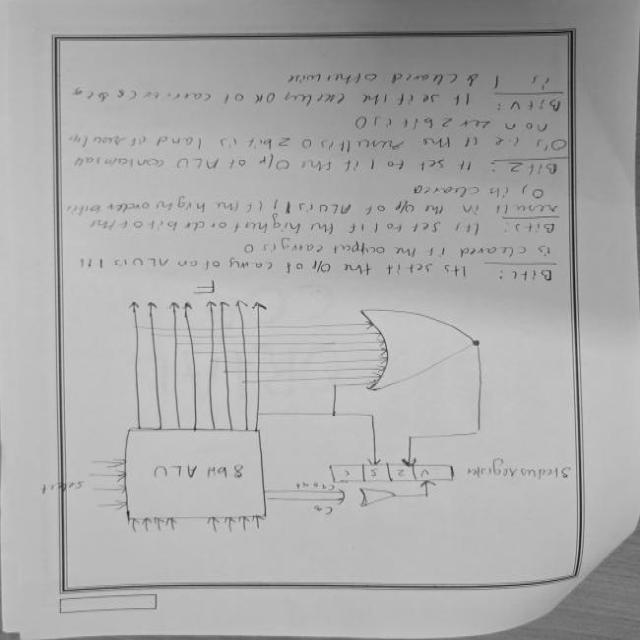Figure Detection - v3 Dataset Version2: (53, 285, 583, 538)
